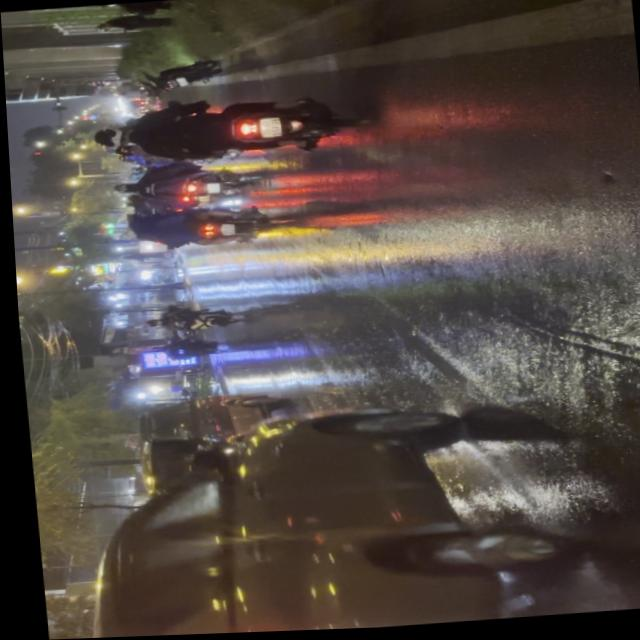helmet: (88, 124, 128, 148)
licenseplate: (83, 88, 372, 170)
nohelmet: (255, 118, 279, 139)
